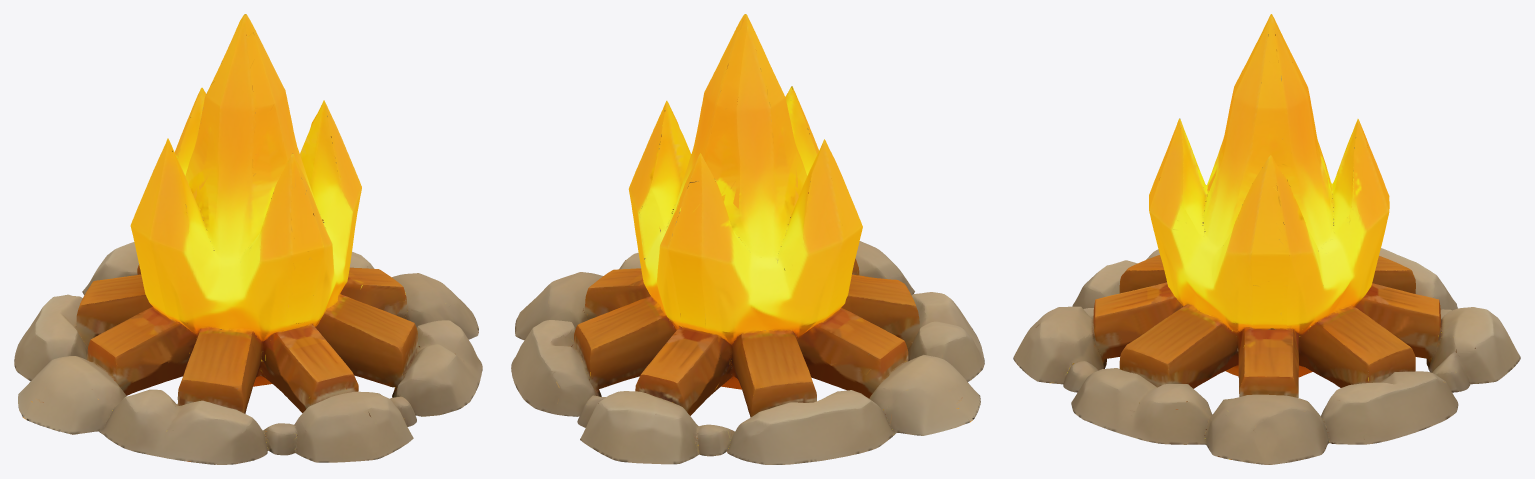
Rendered from base_basic_shaded.fbx.
3 views of the same model, side by side, from view 1: azimuth 30°, elevation 25°; view 2: azimuth 150°, elevation 25°; view 3: azimuth 270°, elevation 25° (orthographic). The views are drawn at different scales.
Parts seen in each view (by area): view 1: model; view 2: model; view 3: model.
Boxes of the visible parts, x1,y1,x2,y2 form: model: [14, 14, 482, 464]; model: [511, 14, 984, 464]; model: [1013, 14, 1520, 464].
Size of the model in its own units: 189 by 148 by 190.
